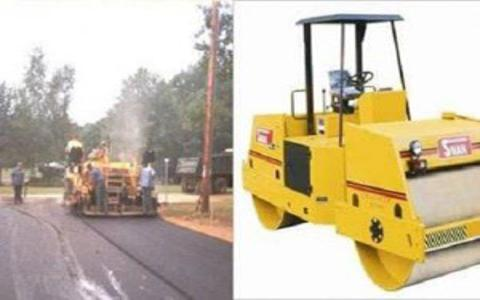Proper road: (127, 223, 222, 289)
